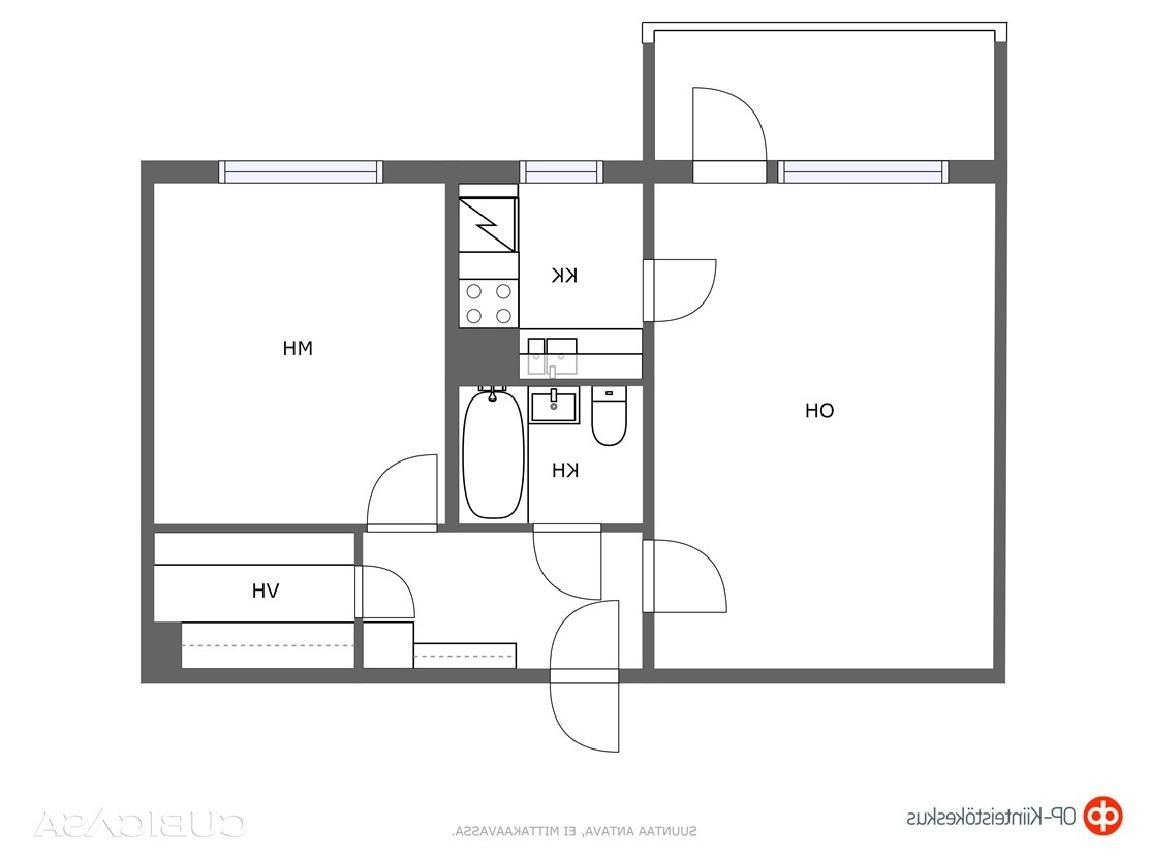door: (548, 593, 632, 761), (686, 75, 770, 186), (356, 446, 446, 542), (638, 541, 737, 623), (531, 524, 614, 608), (645, 254, 718, 324), (353, 560, 420, 617)
window: (216, 153, 382, 185), (777, 158, 949, 186), (522, 156, 598, 185)
zone: (656, 187, 995, 669), (153, 181, 448, 528), (657, 26, 996, 159), (366, 528, 644, 670), (456, 186, 644, 380), (453, 379, 646, 524), (148, 533, 353, 666)
